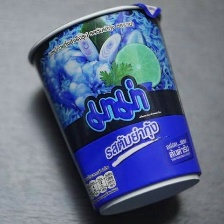paper_cup: (21, 0, 207, 224)
